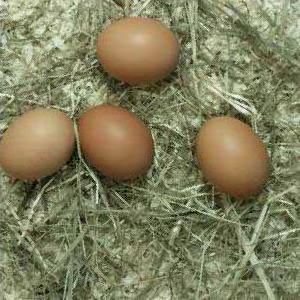egg: (196, 116, 271, 198), (78, 105, 153, 182), (97, 17, 180, 86), (1, 107, 76, 182)
